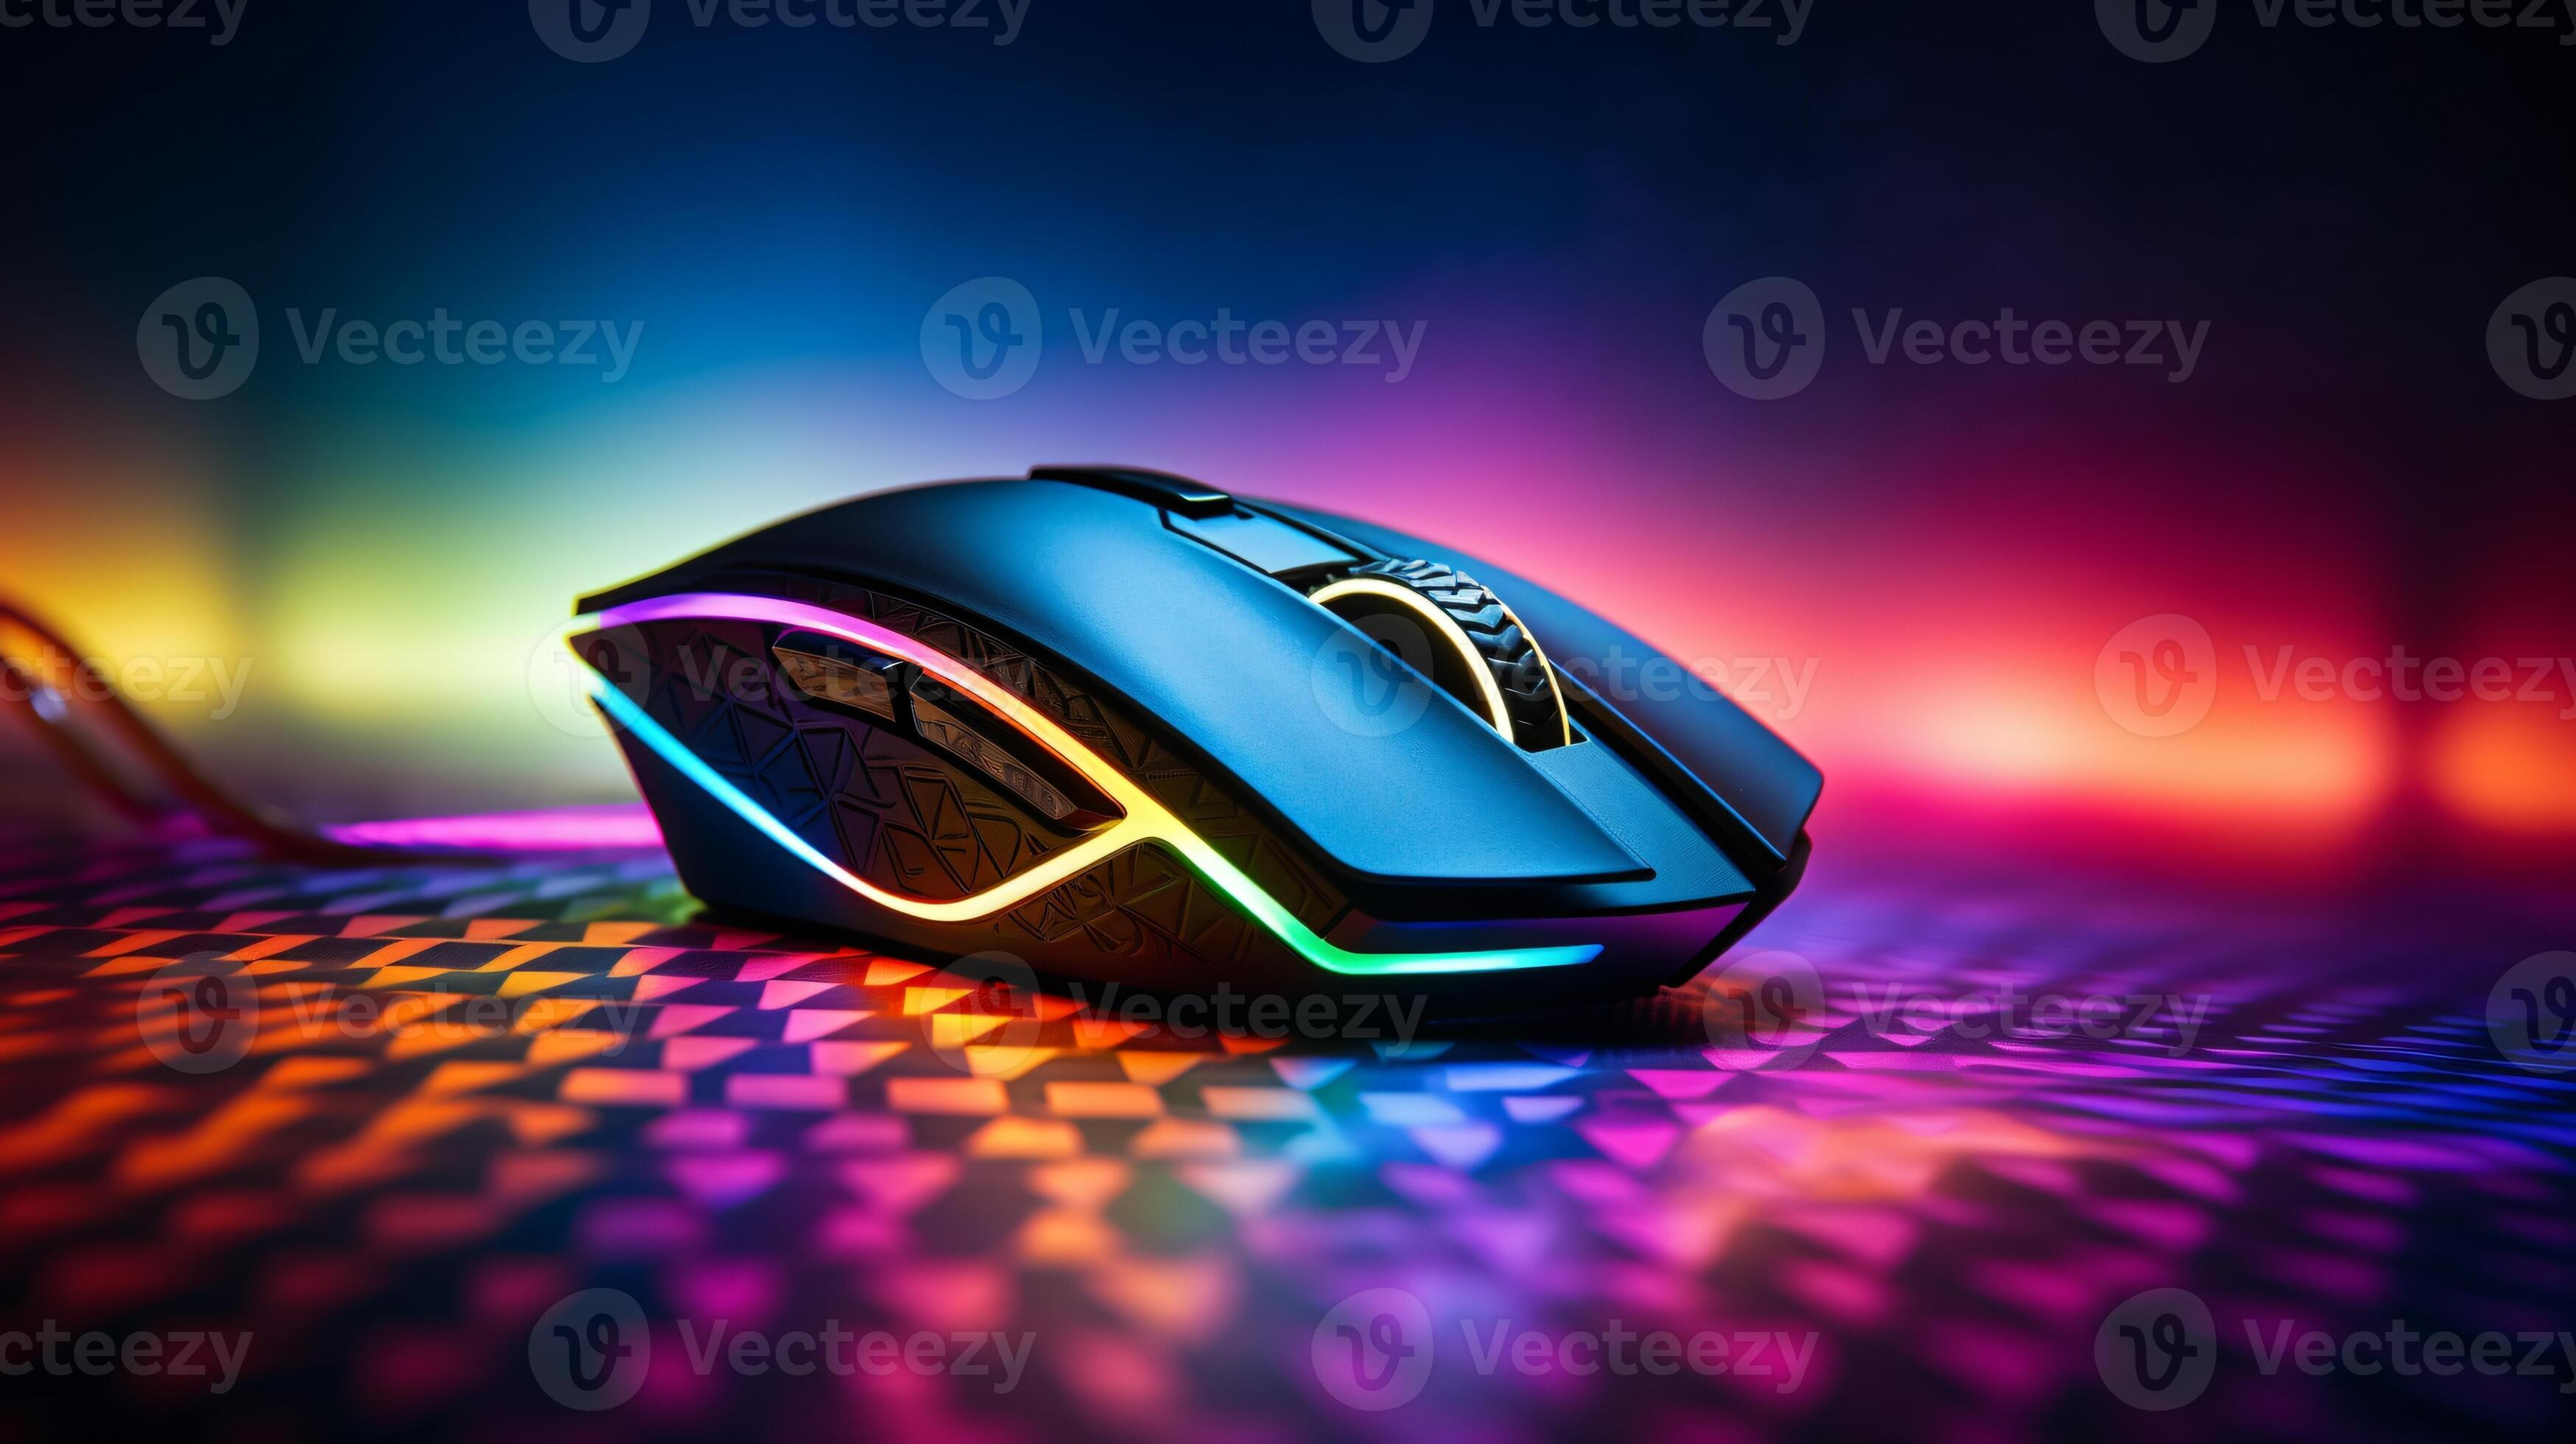mouse: (564, 460, 1836, 1065)
